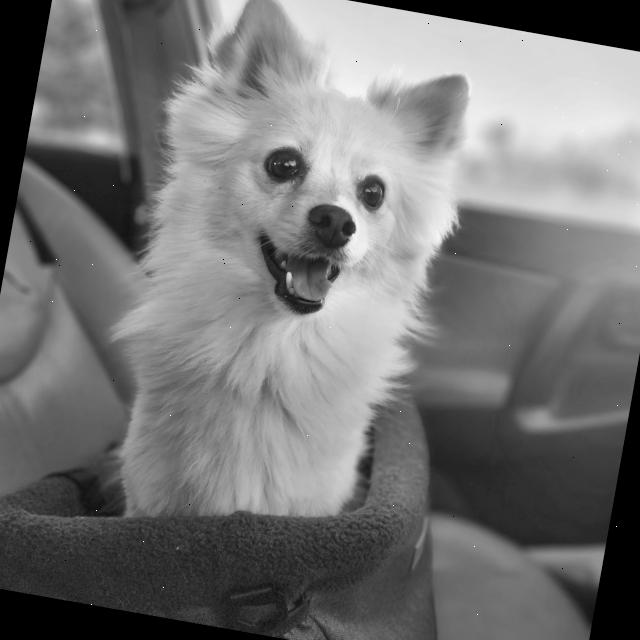pomeranian_dog: (107, 0, 518, 405)
